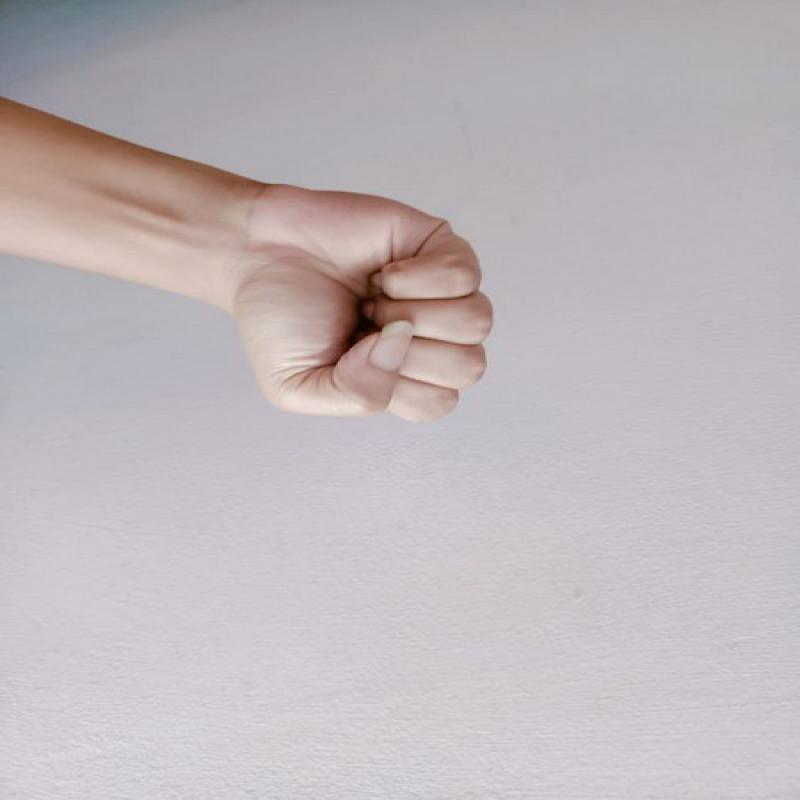Mushti: (206, 170, 507, 455)
